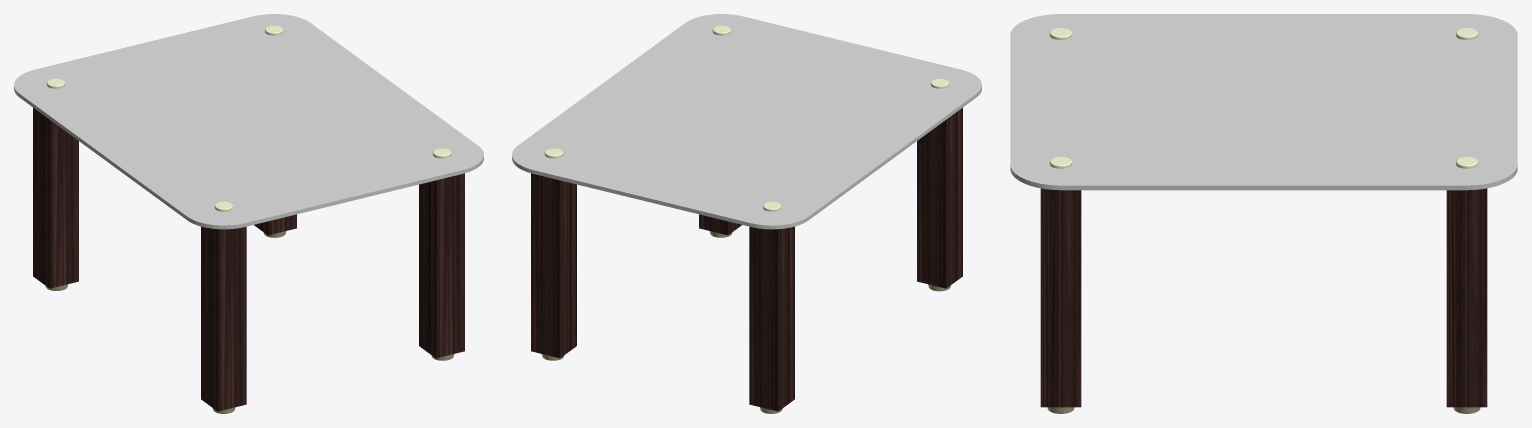
The model's file is centre_table.glb.
3 renders of one model, left to right at view 1: azimuth 30°, elevation 25°; view 2: azimuth 150°, elevation 25°; view 3: azimuth 270°, elevation 25°, orthographic. The views are drawn at different scales.
Parts seen in each view (by area): view 1: GlassTop_0, Legs_1, Bolt_3; view 2: GlassTop_0, Legs_1, Bolt_3; view 3: GlassTop_0, Legs_1, Bolt_3.
Part boxes in pixels (x1,y1,x2,y2): GlassTop_0: (14, 14, 483, 229); Legs_1: (33, 107, 464, 411); Bolt_3: (46, 25, 451, 211); GlassTop_0: (512, 14, 981, 229); Legs_1: (531, 107, 962, 411); Bolt_3: (544, 25, 949, 211); GlassTop_0: (1010, 14, 1517, 190); Legs_1: (1040, 188, 1487, 407); Bolt_3: (1049, 28, 1478, 168).
Size of the model in its own units: 1.83 by 1.23 by 2.29.
4 materials, 1 textured.
